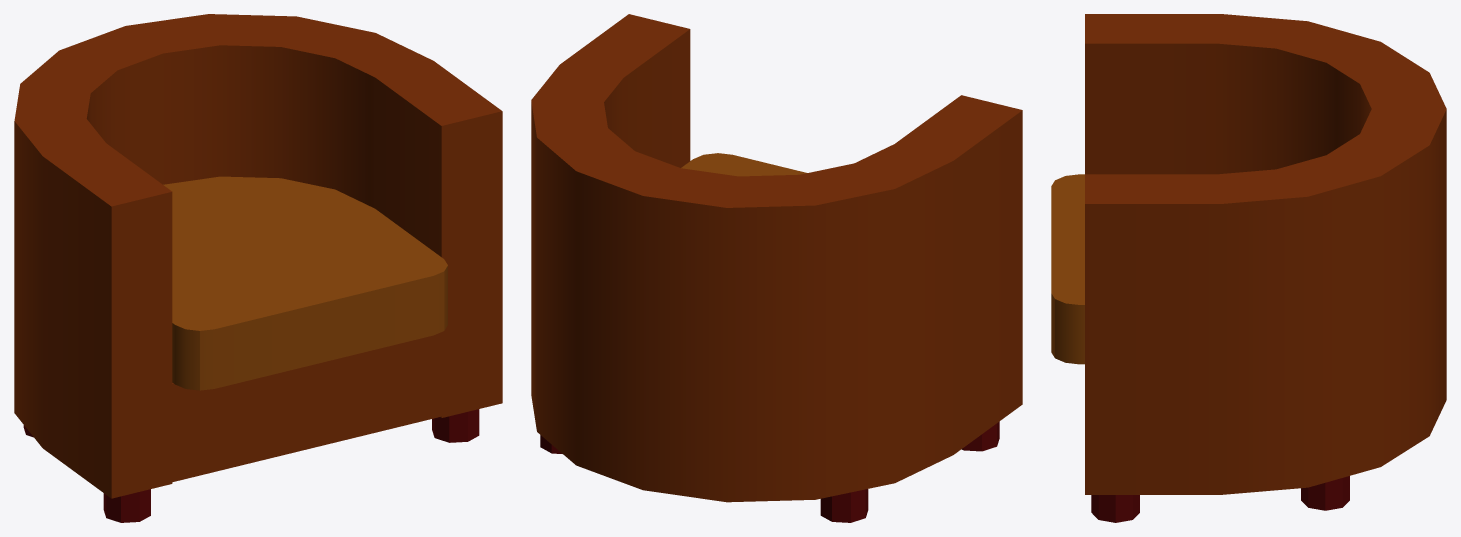
Rendered from Prop_Sofa_01.fbx.
The picture shows the model from 3 angles, left to right: view 1: azimuth 30°, elevation 25°; view 2: azimuth 150°, elevation 25°; view 3: azimuth 270°, elevation 25°; orthographic projection.
Parts seen in each view (by area): view 1: Prop_Sofa_01; view 2: Prop_Sofa_01; view 3: Prop_Sofa_01.
Part boxes in pixels (x1,y1,x2,y2): Prop_Sofa_01: [14, 14, 502, 522]; Prop_Sofa_01: [531, 14, 1022, 522]; Prop_Sofa_01: [1051, 14, 1446, 522].
Bounding box in the file's own units: 96.59 × 76.79 × 84.98.
